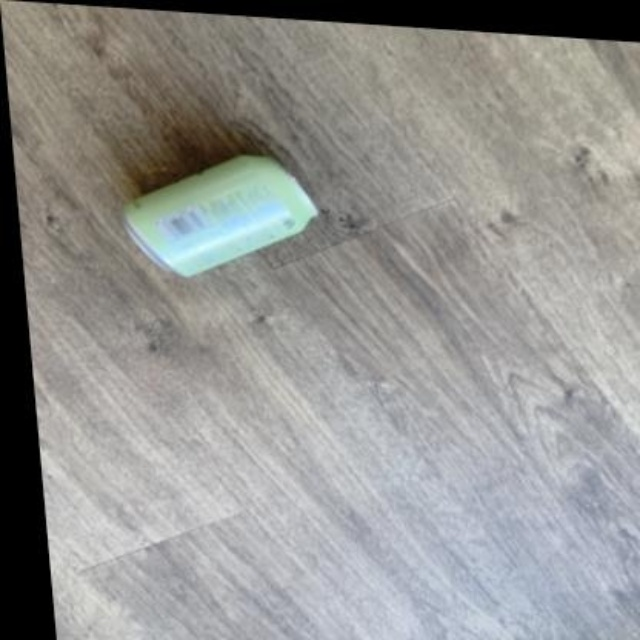trash: (123, 155, 317, 275)
